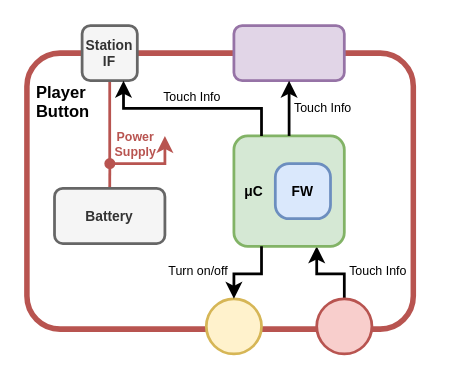
This 450x378 diagram has some shape labels left out. The shapes that lost their labels are listed below. From the top down, each one's centre as x and y in pixels, then its label:
the point at 288,52: Radio
the point at 233,326: Light
the point at 344,326: Button
